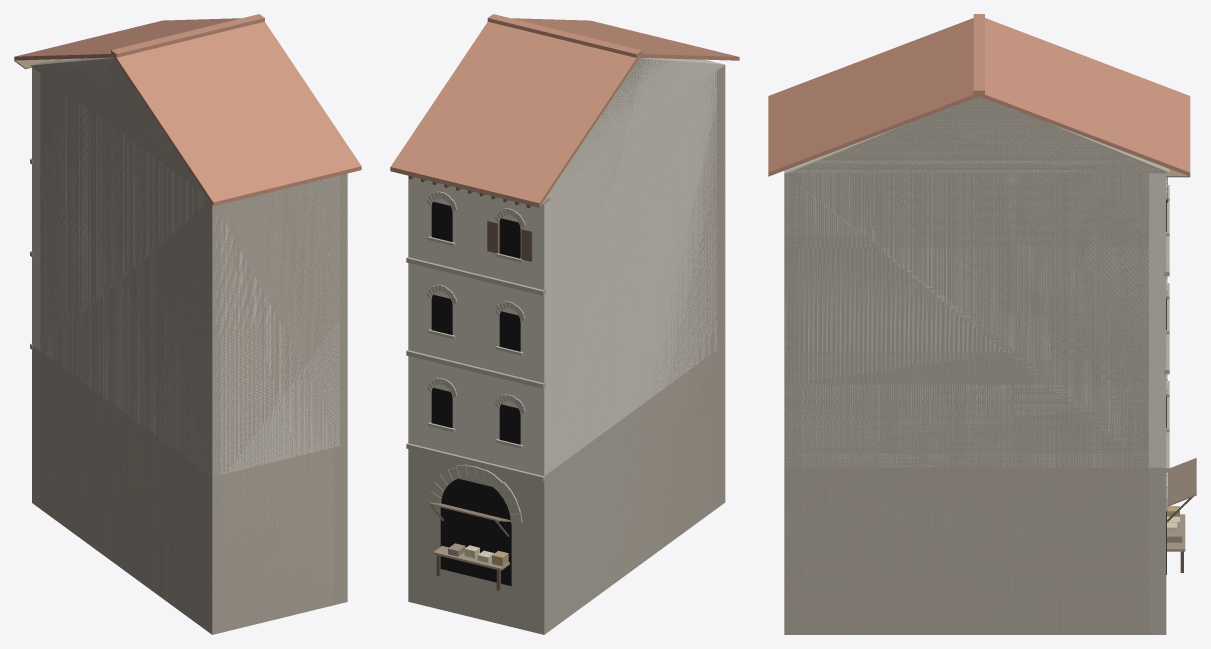
File: casa-52-3-intonaco.glb
3 views of the same model, side by side, from view 1: azimuth 30°, elevation 25°; view 2: azimuth 150°, elevation 25°; view 3: azimuth 270°, elevation 25° (orthographic). The views are drawn at different scales.
Visible parts, largest first — view 1: vicino, lontano; view 2: lontano, vicino, aperta; view 3: vicino, lontano, aperta.
Boxes of the visible parts, x1,y1,x2,y2 form: vicino: (14, 14, 361, 634); lontano: (14, 54, 360, 634); lontano: (390, 54, 739, 634); vicino: (390, 14, 739, 634); aperta: (426, 502, 510, 590); vicino: (768, 14, 1190, 634); lontano: (768, 93, 1190, 634); aperta: (1167, 458, 1196, 572).
Bounding box in the file's own units: 5.7 × 18.98 × 13.45.
